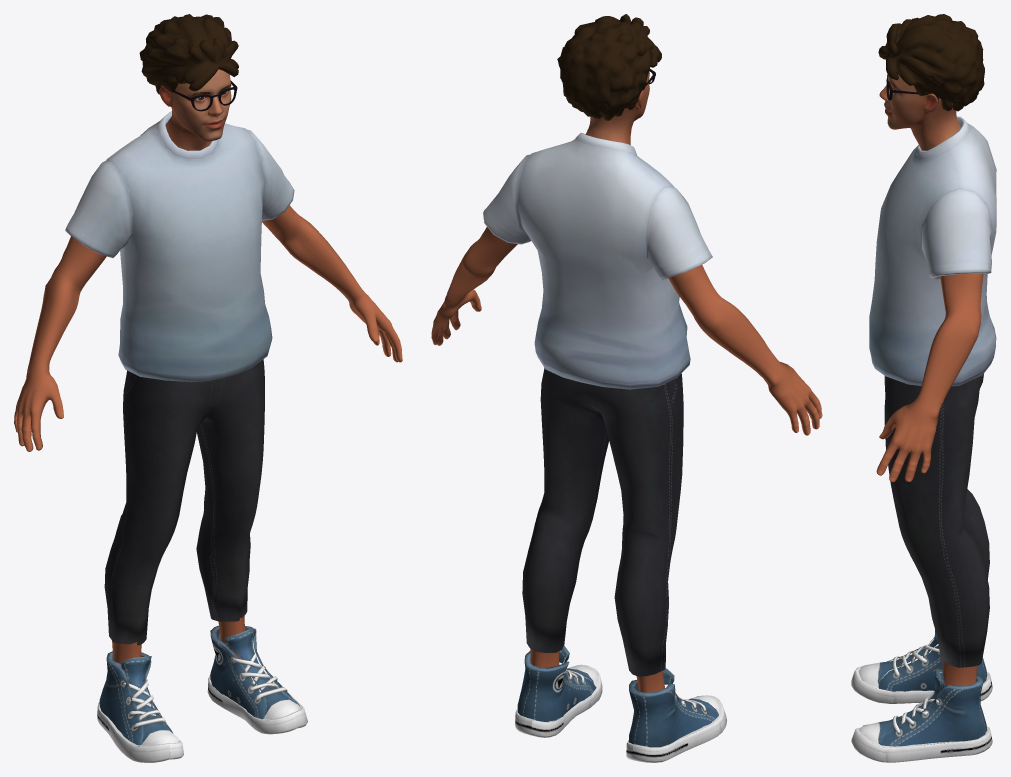
The model's file is suraj.glb.
The picture shows the model from 3 angles, left to right: view 1: azimuth 30°, elevation 25°; view 2: azimuth 150°, elevation 25°; view 3: azimuth 270°, elevation 25°; orthographic projection.
Visible parts, largest first — view 1: Wolf3D_Outfit_Top, Wolf3D_Outfit_Bottom, Wolf3D_Body, Wolf3D_Outfit_Footwear, Wolf3D_Hair, Wolf3D_Head; view 2: Wolf3D_Outfit_Top, Wolf3D_Outfit_Bottom, Wolf3D_Body, Wolf3D_Outfit_Footwear, Wolf3D_Hair, Wolf3D_Head; view 3: Wolf3D_Outfit_Top, Wolf3D_Outfit_Bottom, Wolf3D_Outfit_Footwear, Wolf3D_Body, Wolf3D_Hair, Wolf3D_Head.
Part boxes in pixels (left/top/right/bottom): Wolf3D_Outfit_Top: left=65, top=111, right=294, bottom=382; Wolf3D_Outfit_Bottom: left=104, top=359, right=264, bottom=645; Wolf3D_Body: left=14, top=205, right=402, bottom=681; Wolf3D_Outfit_Footwear: left=97, top=625, right=307, bottom=762; Wolf3D_Hair: left=139, top=14, right=238, bottom=94; Wolf3D_Head: left=159, top=69, right=231, bottom=150; Wolf3D_Outfit_Top: left=483, top=132, right=712, bottom=389; Wolf3D_Outfit_Bottom: left=522, top=368, right=683, bottom=676; Wolf3D_Body: left=431, top=227, right=822, bottom=692; Wolf3D_Outfit_Footwear: left=515, top=645, right=726, bottom=762; Wolf3D_Hair: left=557, top=14, right=661, bottom=120; Wolf3D_Head: left=585, top=71, right=649, bottom=144; Wolf3D_Outfit_Top: left=869, top=116, right=996, bottom=386; Wolf3D_Outfit_Bottom: left=884, top=374, right=989, bottom=667; Wolf3D_Outfit_Footwear: left=851, top=629, right=992, bottom=762; Wolf3D_Body: left=876, top=273, right=983, bottom=685; Wolf3D_Hair: left=878, top=14, right=984, bottom=111; Wolf3D_Head: left=879, top=74, right=960, bottom=150.
Bounding box in the file's own units: 1.06 × 1.91 × 0.3565.
Materials: 9 (9 with a texture image).
